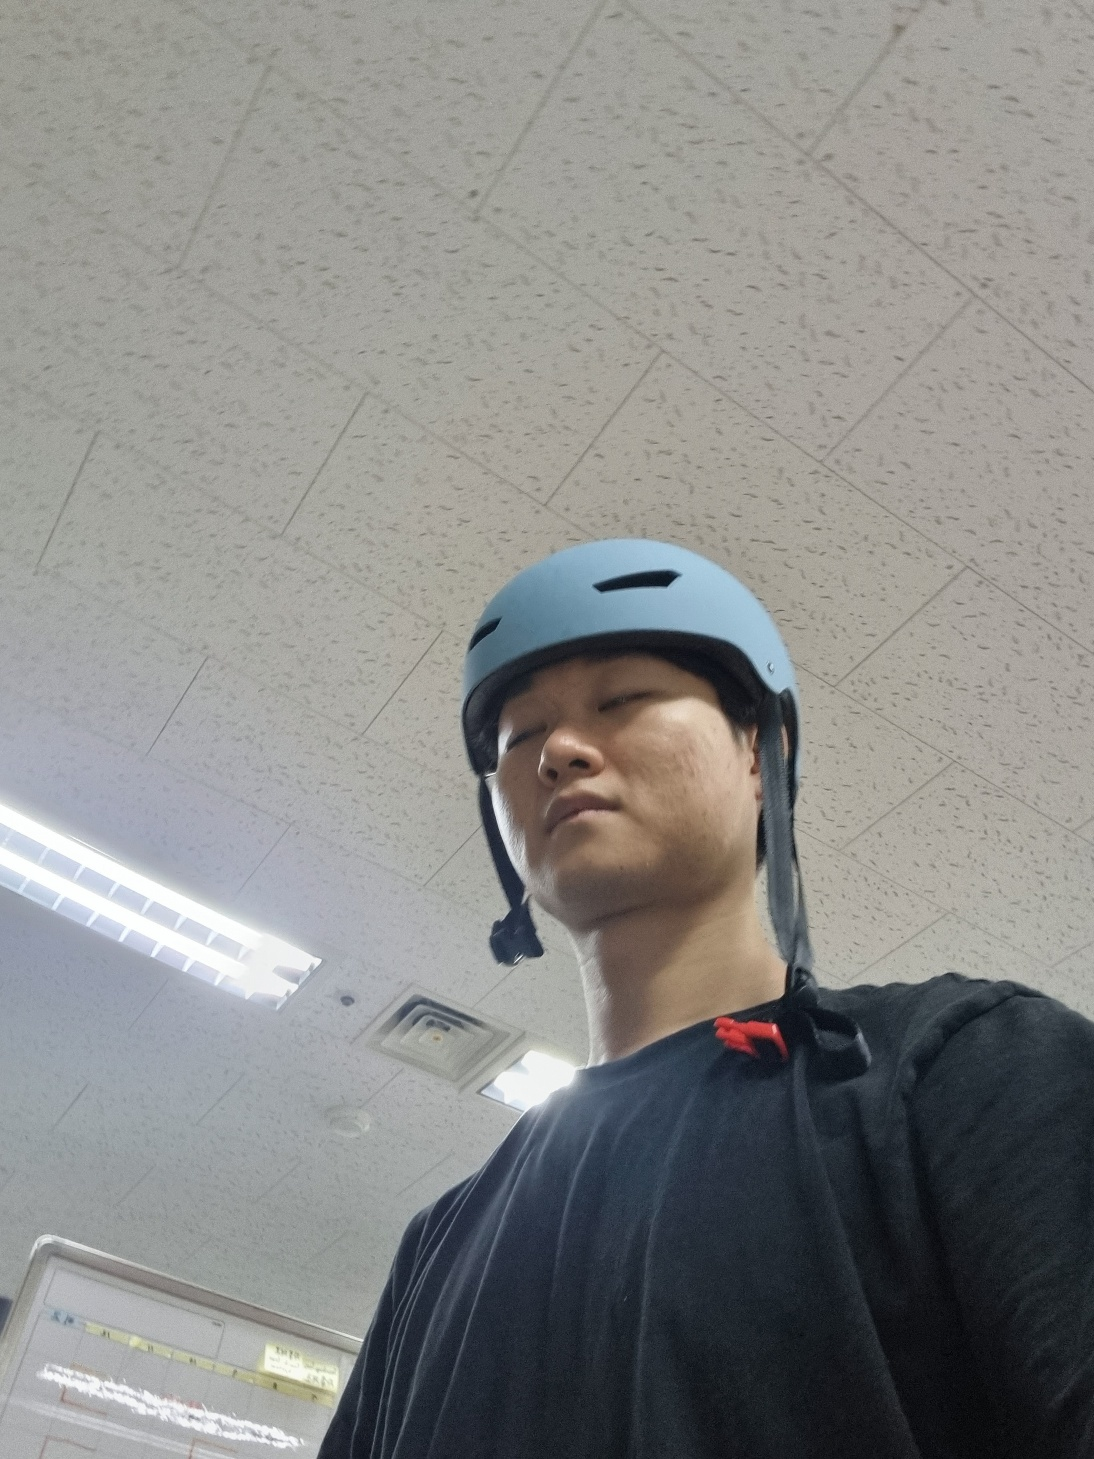Helmet: (423, 505, 856, 978)
